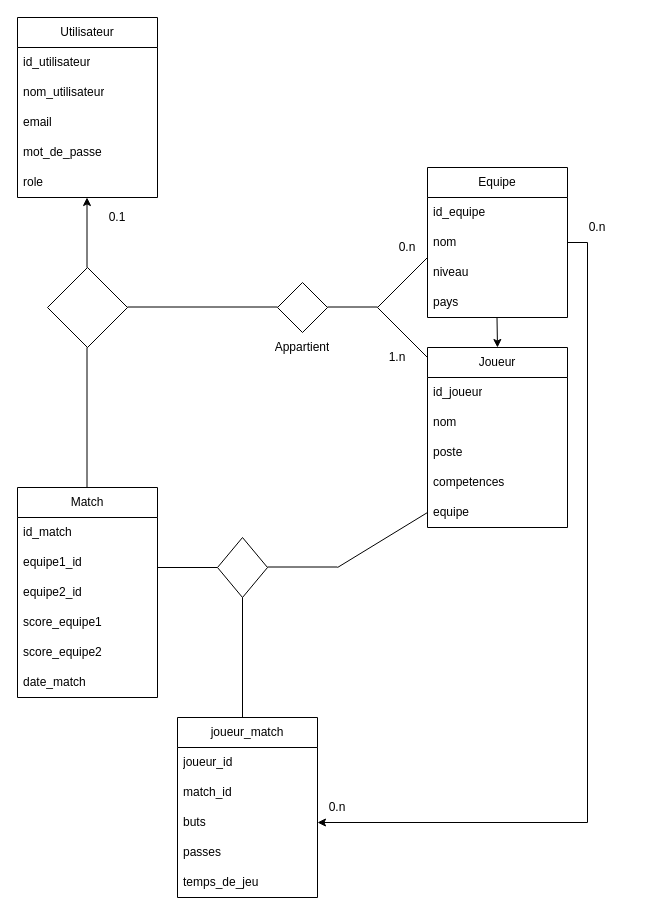
This 655x915 diagram has some shape labels left out. Here are the shapes that lost their labels. From the top down, the centre of each, then its label:
At pixel 87 307: "Gère".
At pixel 242 567: "Participe".
